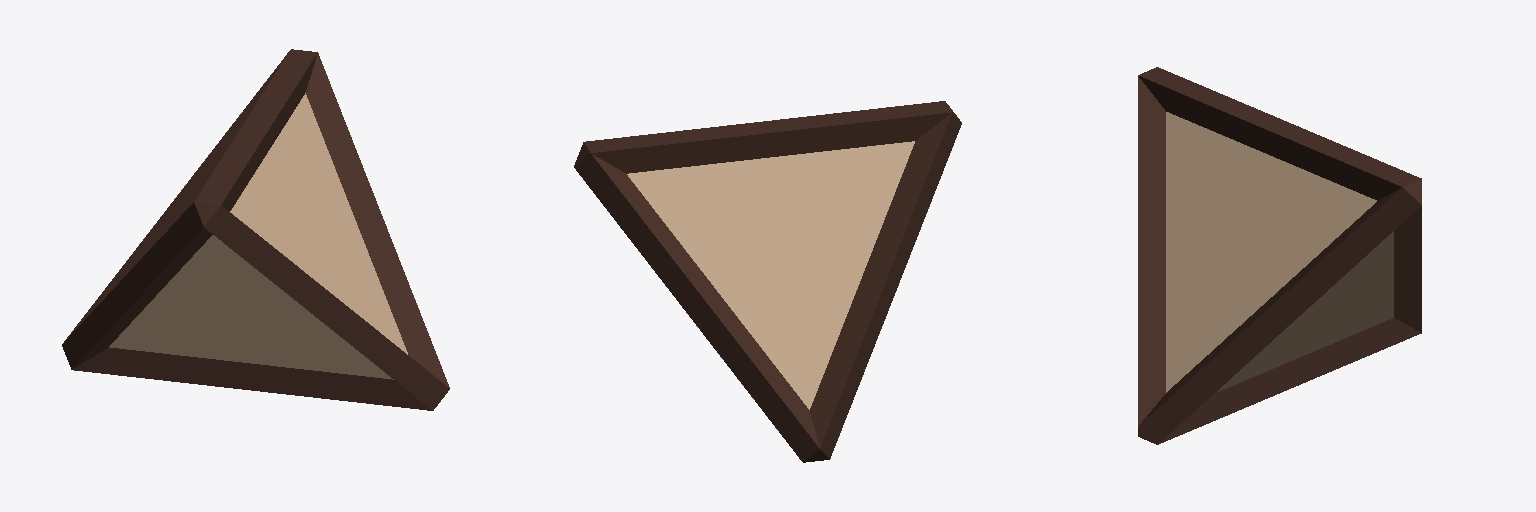
File: mysteriousShard.obj
3 renders of one model, left to right at view 1: azimuth 30°, elevation 25°; view 2: azimuth 150°, elevation 25°; view 3: azimuth 270°, elevation 25°, orthographic.
Parts seen in each view (by area): view 1: Cube; view 2: Cube; view 3: Cube.
Boxes of the visible parts, x1=… form: Cube: x1=62, y1=49, x2=449, y2=410; Cube: x1=574, y1=101, x2=961, y2=462; Cube: x1=1138, y1=67, x2=1421, y2=444.
Bounding box in the file's own units: 2.19 × 2.19 × 2.19.